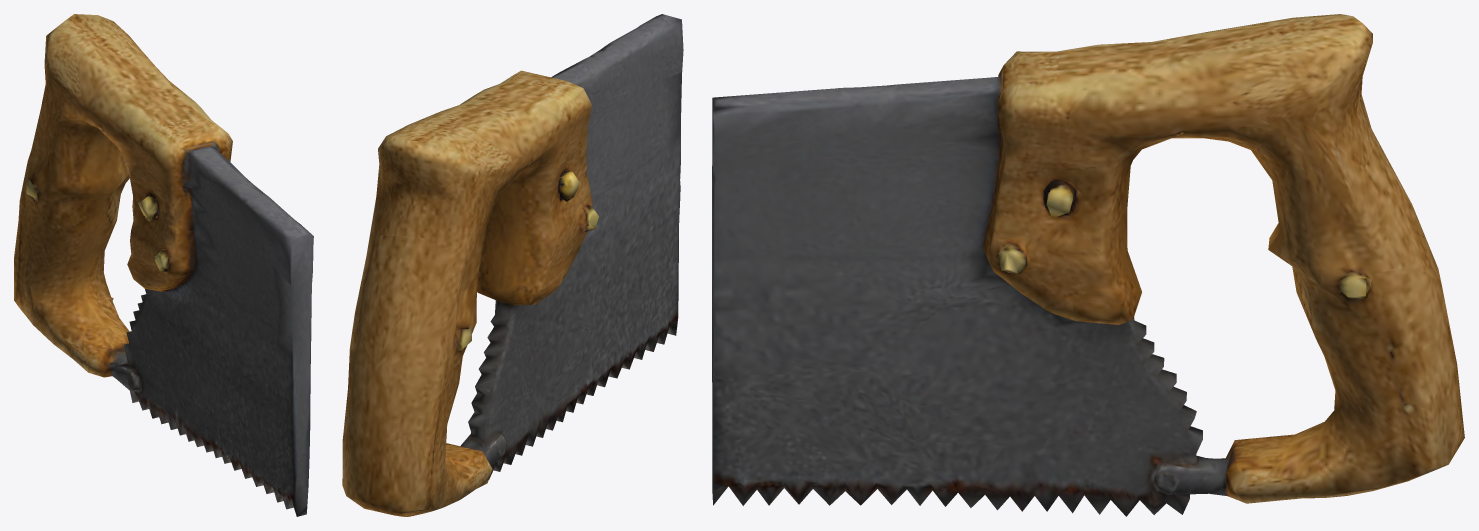
File: hand_saw.b7a814e412.glb
The picture shows the model from 3 angles, left to right: view 1: azimuth 30°, elevation 25°; view 2: azimuth 150°, elevation 25°; view 3: azimuth 270°, elevation 25°; orthographic projection. The views are drawn at different scales.
Visible parts, largest first — view 1: hand_saw; view 2: hand_saw; view 3: hand_saw.
Boxes of the visible parts, left/top/right/bottom form: hand_saw: left=14, top=14, right=313, bottom=516; hand_saw: left=342, top=14, right=683, bottom=516; hand_saw: left=712, top=14, right=1464, bottom=516.
Bounding box in the file's own units: 0.1241 × 0.4312 × 0.6.
Materials: 1 (1 with a texture image).
